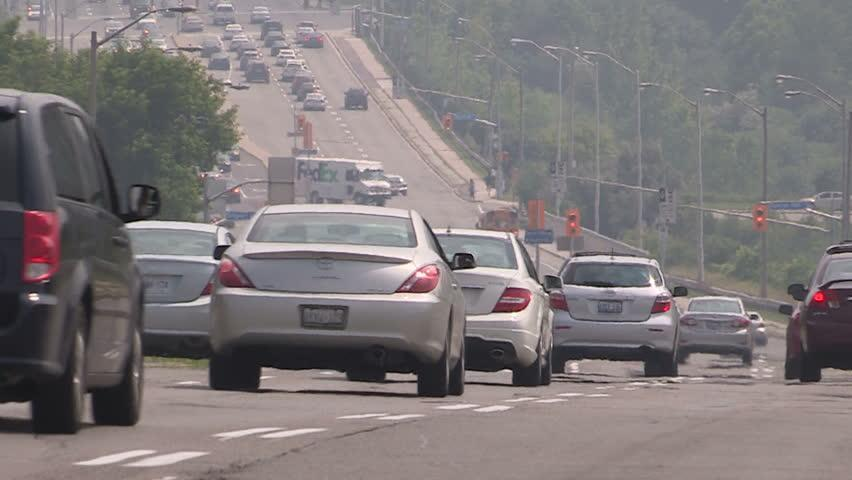bus: (292, 156, 392, 208)
car: (1, 87, 161, 436), (206, 200, 477, 398), (340, 223, 565, 387), (103, 215, 251, 361), (534, 248, 692, 381), (786, 242, 852, 383), (778, 264, 842, 381), (671, 294, 760, 369), (799, 191, 844, 213), (244, 60, 272, 85), (343, 86, 369, 110), (259, 19, 285, 42), (239, 49, 265, 72), (290, 72, 315, 95), (212, 3, 237, 26), (280, 62, 307, 82), (197, 39, 224, 59), (102, 21, 128, 41), (302, 92, 328, 111), (180, 14, 205, 33), (249, 5, 273, 24), (294, 20, 319, 38), (295, 81, 317, 101), (208, 52, 231, 71), (263, 31, 287, 49), (25, 4, 50, 21), (301, 31, 325, 48), (223, 23, 247, 40), (275, 48, 296, 67), (295, 27, 316, 45), (270, 40, 291, 57), (229, 34, 250, 51)
